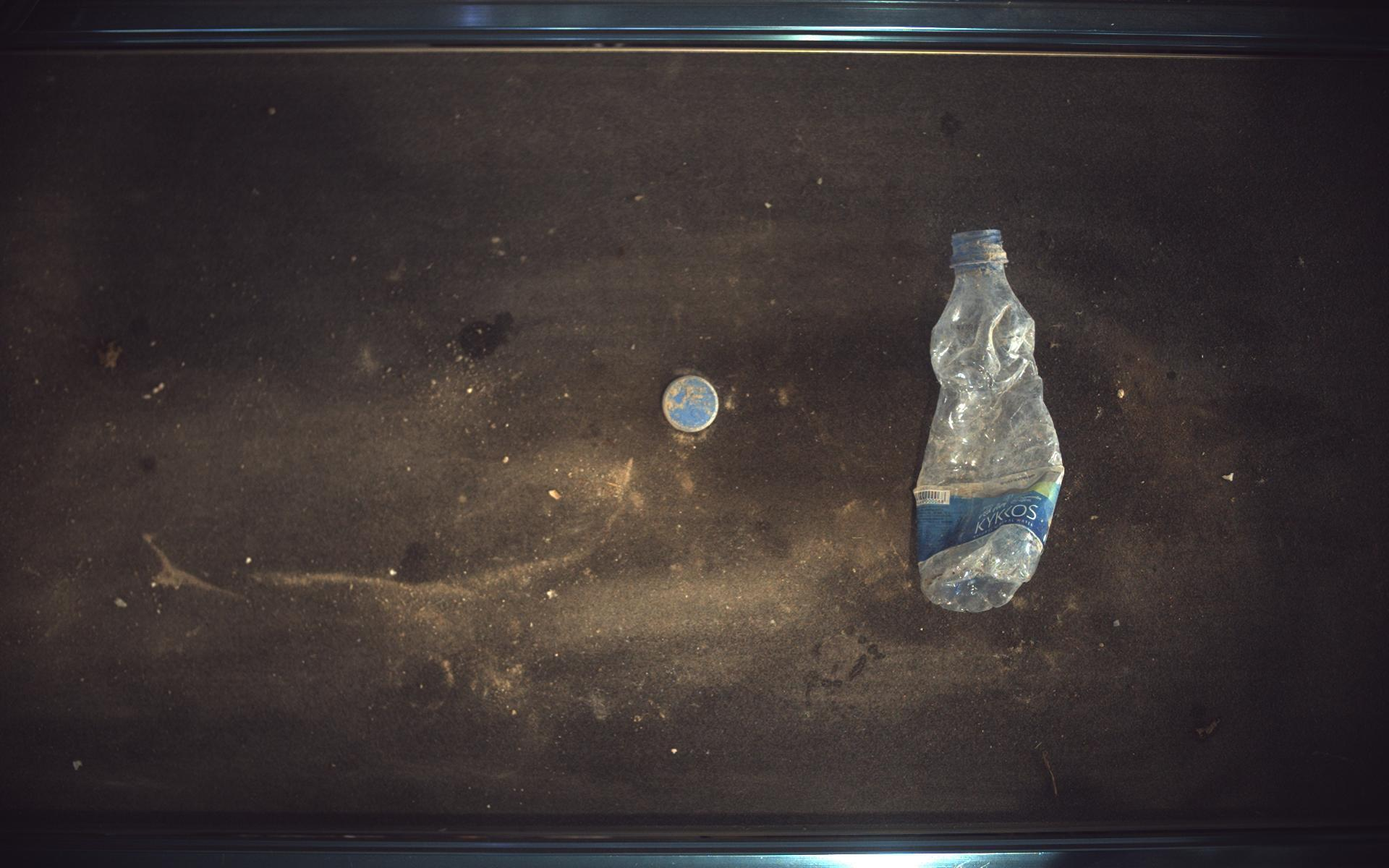general_w: (915, 229, 1066, 613), (663, 375, 720, 433)
